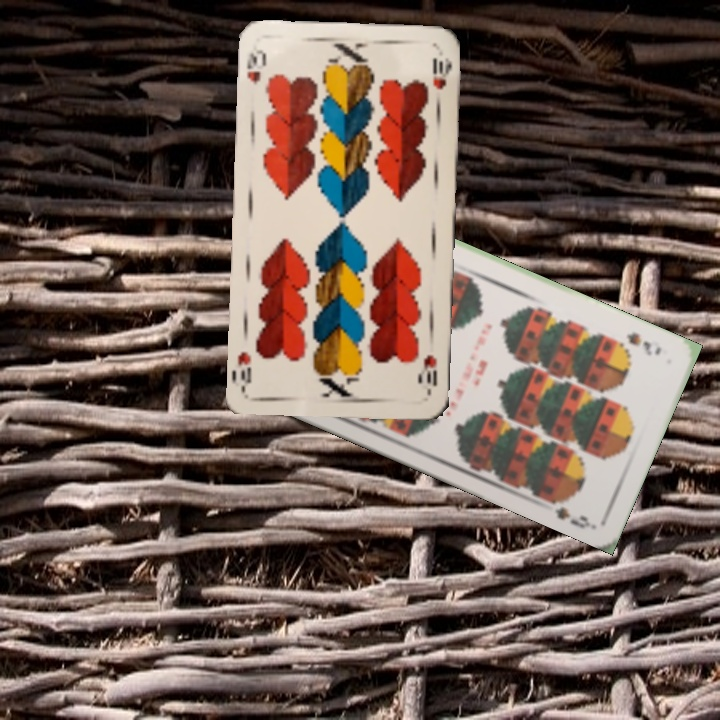H10: (243, 41, 269, 87), (419, 351, 440, 389)
S9: (622, 328, 664, 358)
